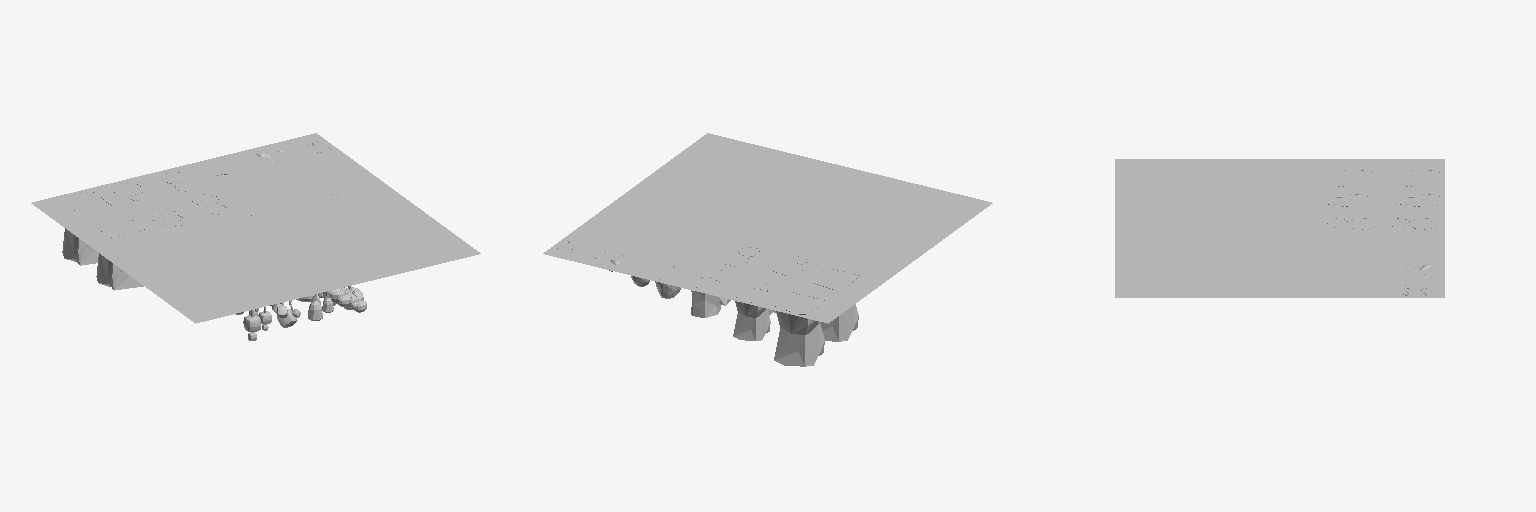
The model's file is low_poly_nature_free.obj.
3 views of the same model, side by side, from view 1: azimuth 30°, elevation 25°; view 2: azimuth 150°, elevation 25°; view 3: azimuth 270°, elevation 25° (orthographic).
Visible parts, largest first — view 1: Plane_Mat_tree_0, Ground_Mat_tree_0, Ground.005_Mat_tree_0, Tree.016_Mat_tree_0, Tree.021_Mat_tree_0; view 2: Plane_Mat_tree_0, Ground.005_Mat_tree_0, Ground.003_Mat_tree_0, Ground_Mat_tree_0, Ground.002_Mat_tree_0; view 3: Plane_Mat_tree_0.
Boxes of the visible parts, box(x1,y1,x2,y2) form: Plane_Mat_tree_0: box(31, 133, 480, 323); Ground_Mat_tree_0: box(96, 217, 144, 290); Ground.005_Mat_tree_0: box(62, 192, 111, 265); Tree.016_Mat_tree_0: box(325, 286, 366, 312); Tree.021_Mat_tree_0: box(243, 307, 271, 340); Plane_Mat_tree_0: box(543, 133, 992, 323); Ground.005_Mat_tree_0: box(774, 292, 824, 366); Ground.003_Mat_tree_0: box(733, 284, 772, 340); Ground_Mat_tree_0: box(812, 269, 858, 341); Ground.002_Mat_tree_0: box(691, 270, 730, 317); Plane_Mat_tree_0: box(1115, 159, 1444, 297).
Size of the model in its own units: 56.18 by 11.05 by 56.18.